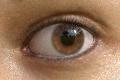eye: (51, 25, 84, 54)
